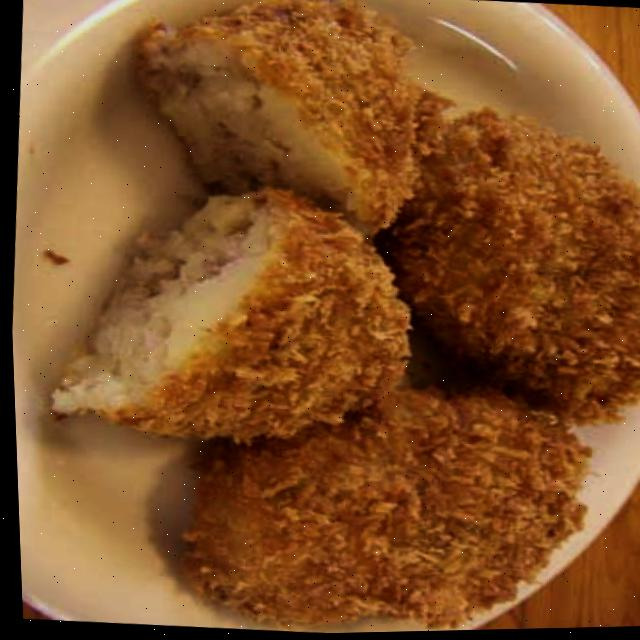炸货点心: (13, 0, 640, 640)
